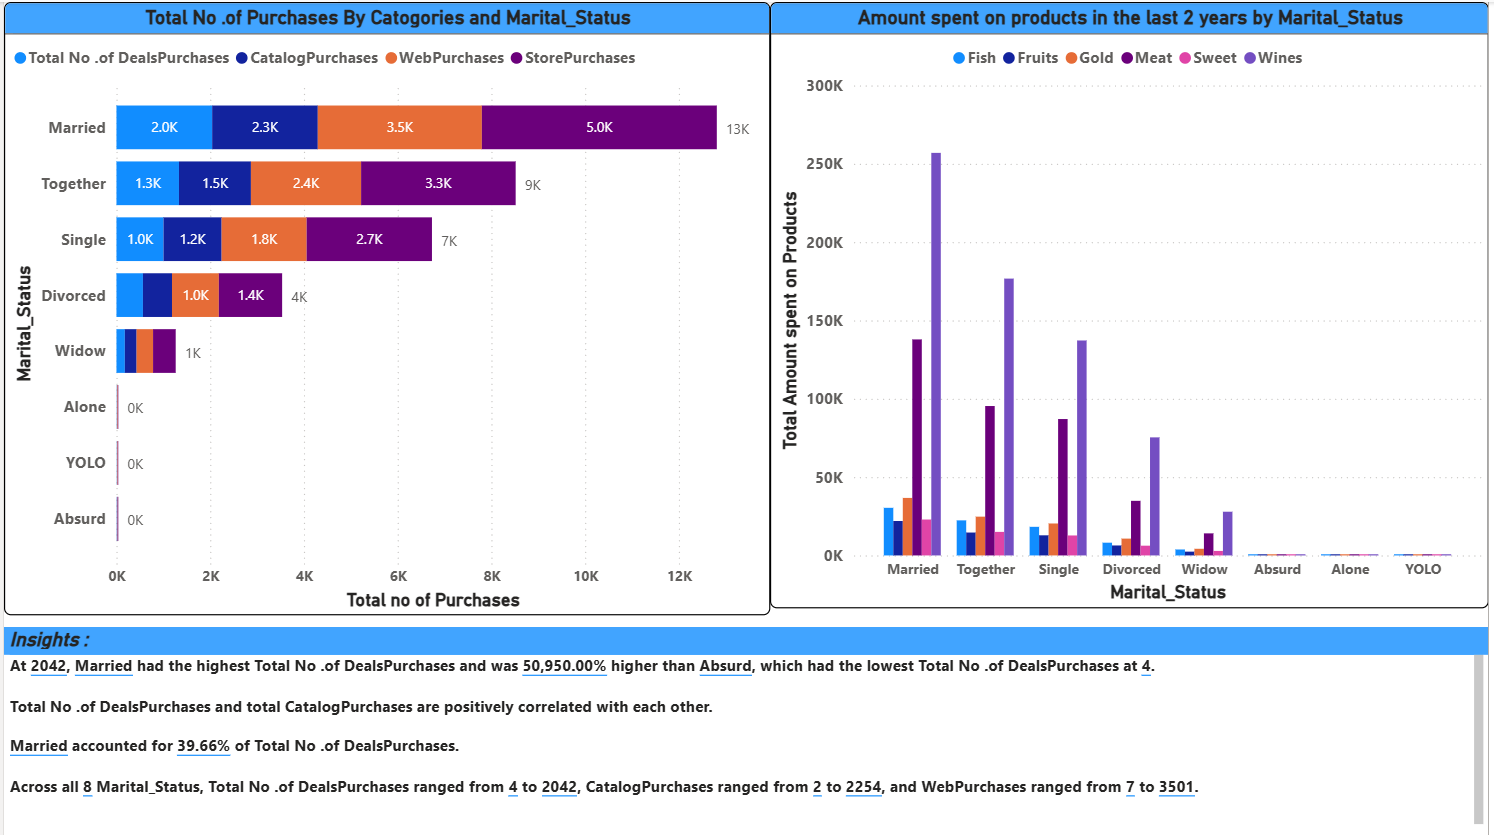

This screenshot's page, from the dashboard's own definition file:
{"tool":"powerbi","page":{"name":"Page 2","canvas":[1280,720],"ordinal":1},"visuals":[{"type":"barChart","title":"Total No .of Purchases By Catogories and Marital_Status","fields":{"Category":["marketing_campaign_cleaned.Marital_Status"],"Y":["Sum(marketing_campaign_cleaned.NumDealsPurchases)","Sum(marketing_campaign_cleaned.NumCatalogPurchases)","Sum(marketing_campaign_cleaned.NumWebPurchases)","Sum(marketing_campaign_cleaned.NumStorePurchases)"]},"box":[0,0,660.7,529.1],"z":0},{"type":"clusteredColumnChart","title":"Amount spent on  products in the last 2 years by Marital_Status","fields":{"Y":["Sum(marketing_campaign_cleaned.MntFishProducts)","Sum(marketing_campaign_cleaned.MntFruits)","Sum(marketing_campaign_cleaned.MntGoldProds)","Sum(marketing_campaign_cleaned.MntMeatProducts)","Sum(marketing_campaign_cleaned.MntSweetProducts)","Sum(marketing_campaign_cleaned.MntWines)"],"Category":["marketing_campaign_cleaned.Marital_Status"]},"box":[660.7,0,619.8,522.7],"z":1000},{"type":"textbox","title":"Insights :","box":[0,539.3,1280.5,180.2],"z":2000}]}

Visuals, with their boxes in screenshot pixels (x1, y1, x2, y2), scaled from the page's 1280x720 canvas onto the 1494x835 screenshot:
"Total No .of Purchases By Catogories and Marital_Status" barChart: (0,0,771,614)
"Amount spent on  products in the last 2 years by Marital_Status" clusteredColumnChart: (771,0,1493,606)
"Insights :" textbox: (0,625,1493,834)
